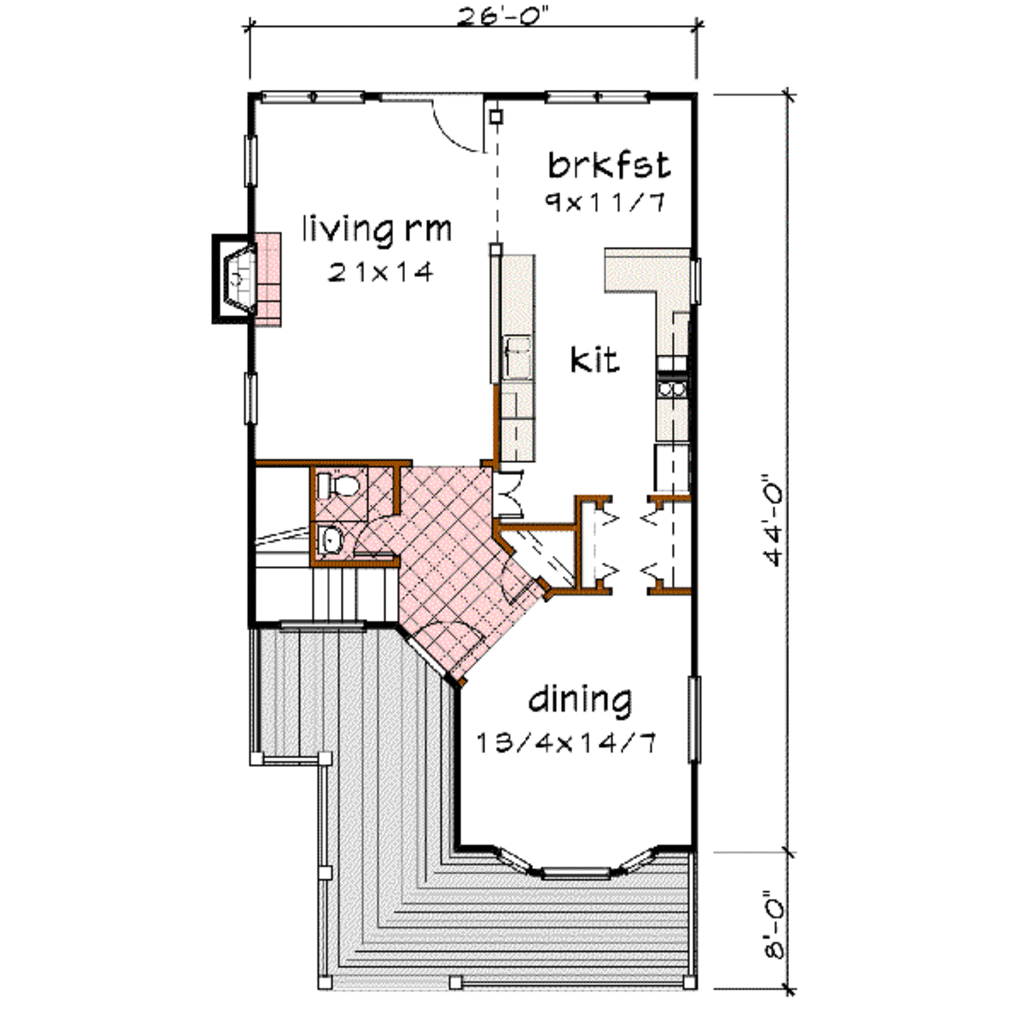door: (413, 612, 488, 682), (423, 92, 491, 165), (485, 463, 537, 528), (498, 551, 539, 614), (348, 514, 404, 558)
large_sink: (312, 470, 378, 505)
small_sink: (313, 519, 350, 555)
twin_sink: (498, 333, 544, 379)
window: (674, 668, 713, 778), (544, 85, 661, 111), (255, 85, 364, 112), (240, 365, 267, 433), (237, 132, 258, 195), (682, 252, 707, 303)
